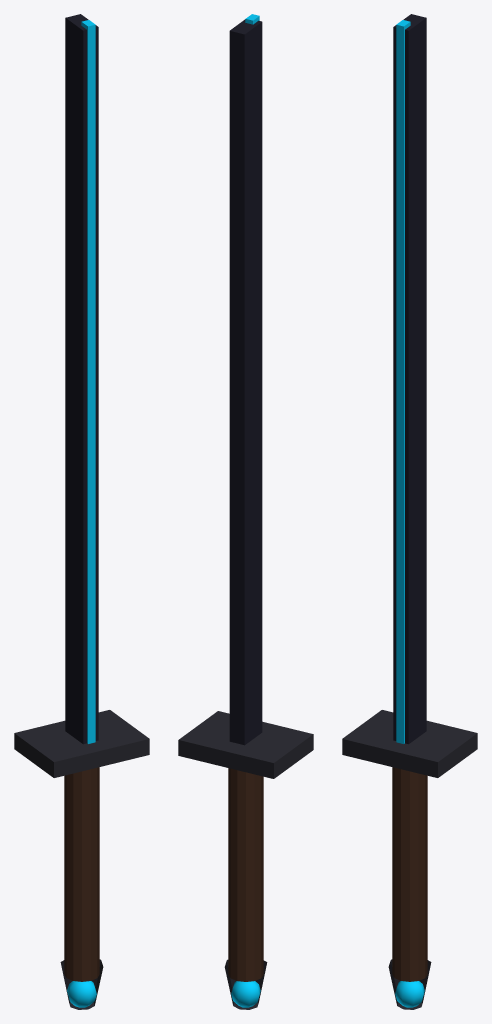
File: cyberpunk_katana.obj
3 renders of one model, left to right at view 1: azimuth 30°, elevation 25°; view 2: azimuth 150°, elevation 25°; view 3: azimuth 330°, elevation 25°, orthographic.
Visible parts, largest first — view 1: CyberpunkKatana; view 2: CyberpunkKatana; view 3: CyberpunkKatana.
Part boxes in pixels (x1,y1,x2,y2): CyberpunkKatana: (14,14,149,1009); CyberpunkKatana: (178,14,313,1009); CyberpunkKatana: (342,14,477,1009).
Bounding box in the file's own units: 0.25 × 2.46 × 0.18.
